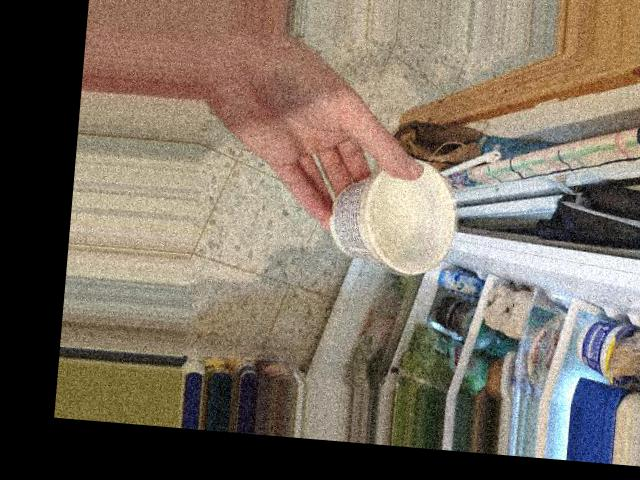cotage: (327, 166, 455, 275)
